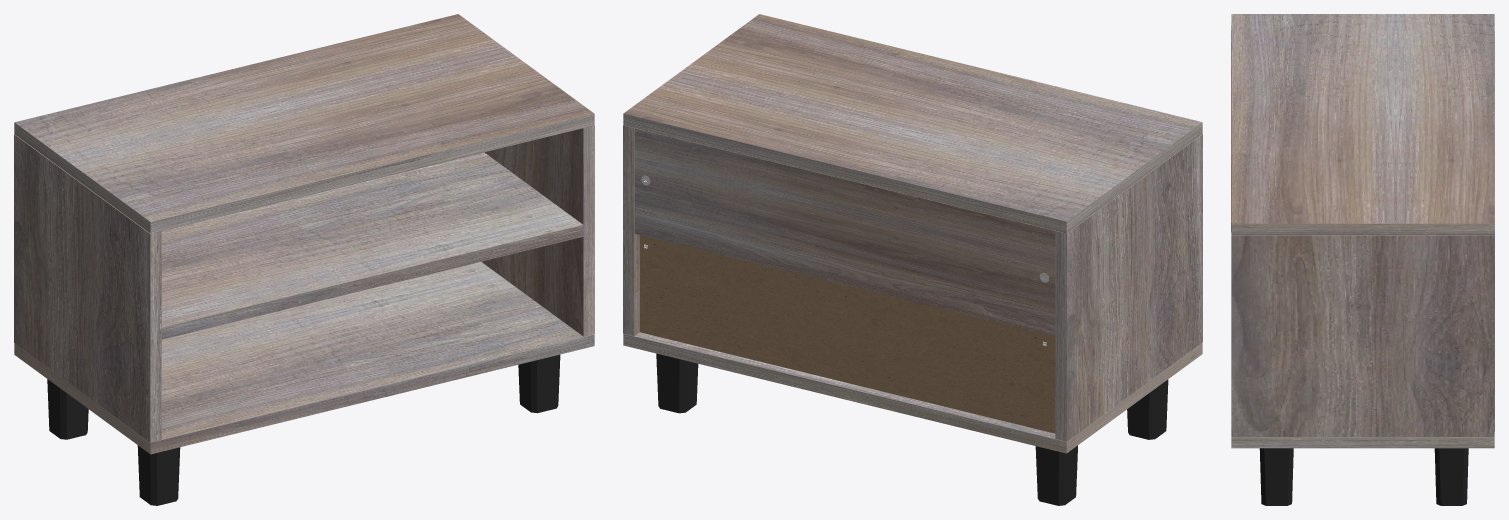
3 renders of one model, left to right at view 1: azimuth 30°, elevation 25°; view 2: azimuth 150°, elevation 25°; view 3: azimuth 270°, elevation 25°, orthographic. The views are drawn at different scales.
Parts seen in each view (by area): view 1: group_0.114, Cube, group_0.115; view 2: group_0.114, Plane.001, group_0.115; view 3: group_0.114, group_0.115.
Part boxes in pixels (box(x1,y1,x2,y2)): group_0.114: box(14, 14, 594, 454); Cube: box(161, 152, 583, 339); group_0.115: box(47, 354, 560, 505); group_0.114: box(623, 14, 1202, 453); Plane.001: box(640, 177, 1055, 433); group_0.115: box(656, 353, 1168, 505); group_0.114: box(1231, 14, 1494, 448); group_0.115: box(1259, 448, 1468, 505).
Size of the model in its own units: 0.7006 by 0.453 by 0.372.
Materials: 4 (2 with a texture image).
